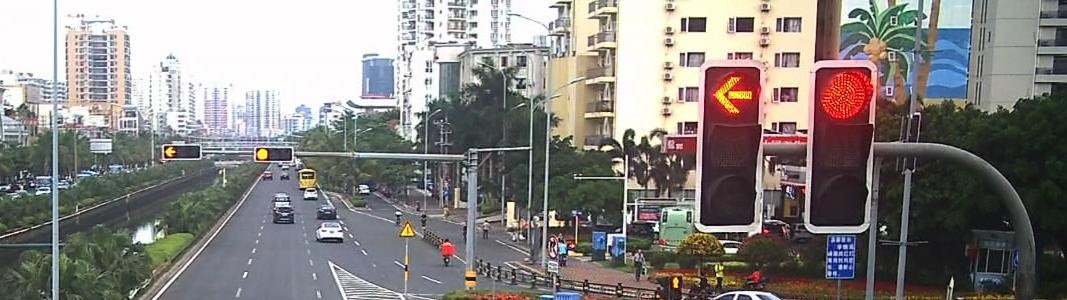red: (819, 73, 873, 120), (256, 149, 271, 161)
redleft: (705, 68, 756, 120), (164, 145, 175, 158)
redpeople: (672, 274, 682, 292)
